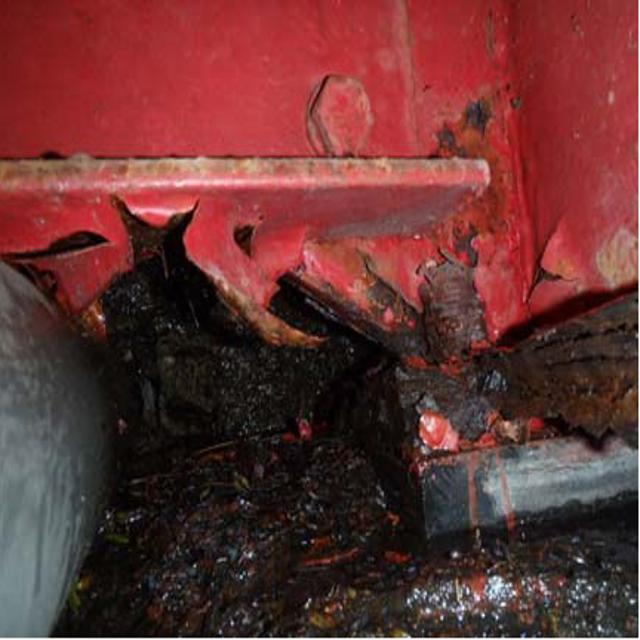corrosion: (60, 218, 629, 596)
